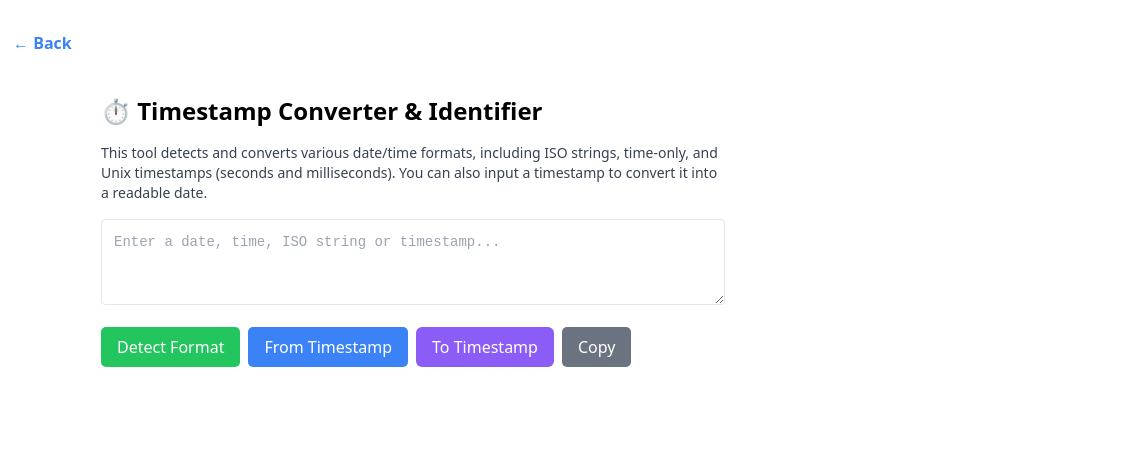
Test: TimestampToolView › detects Unix timestamp in seconds
The image size is (1133, 456).
Type "1700000000" into the text box with placeholder "Enter a date, time, ISO string or timestamp..." at coordinates (413, 262), box left=101, top=219, right=725, bottom=305
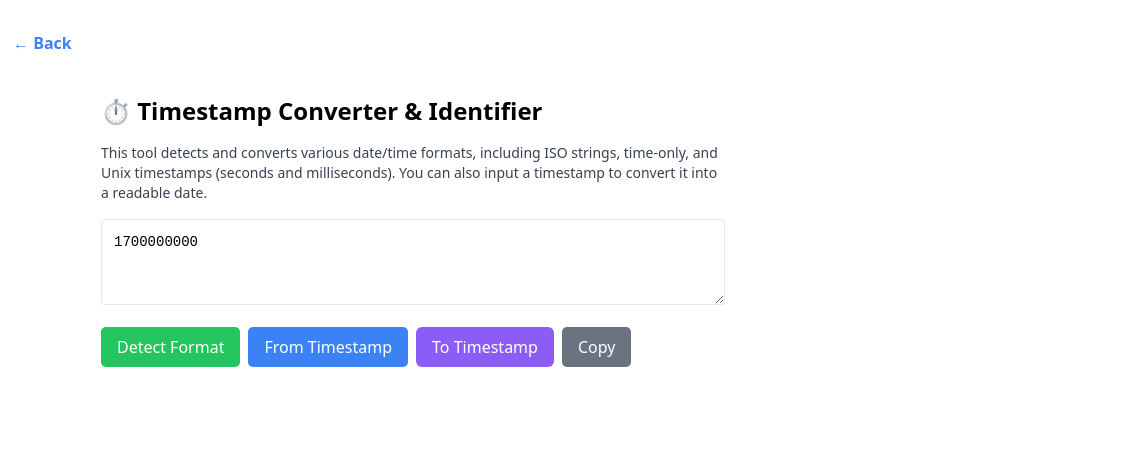
Click the button with class "btn-green" at coordinates (171, 347), box left=101, top=327, right=240, bottom=367
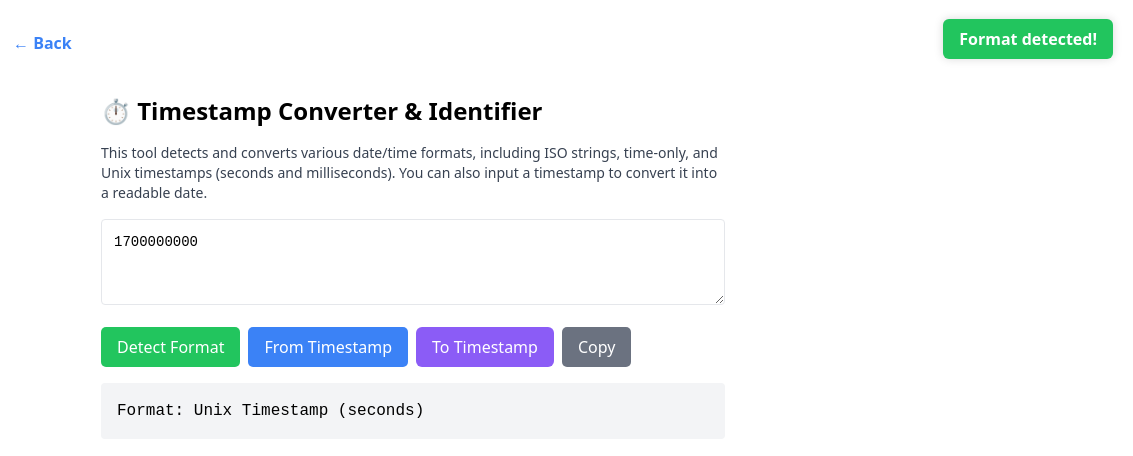
expect the text "Unix Timestamp (seconds)" is shown: met, box left=117, top=402, right=424, bottom=420
